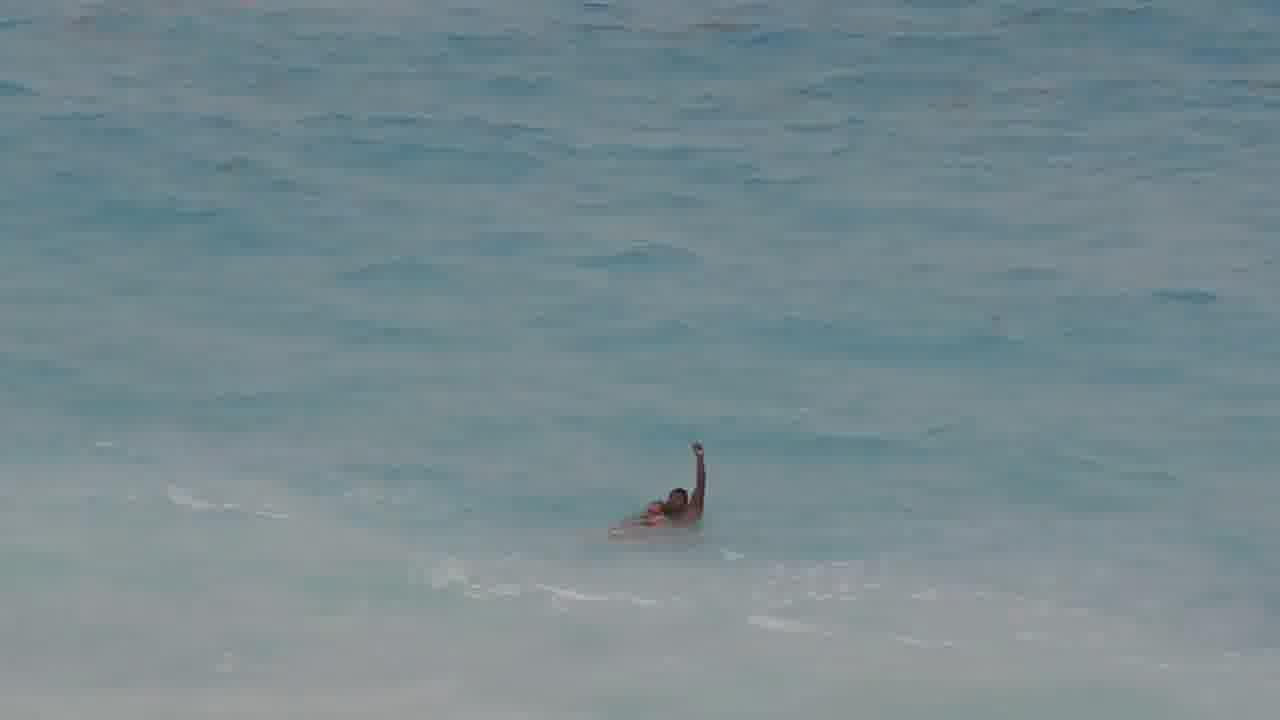swimmer: (663, 437, 721, 528), (605, 494, 671, 540)
